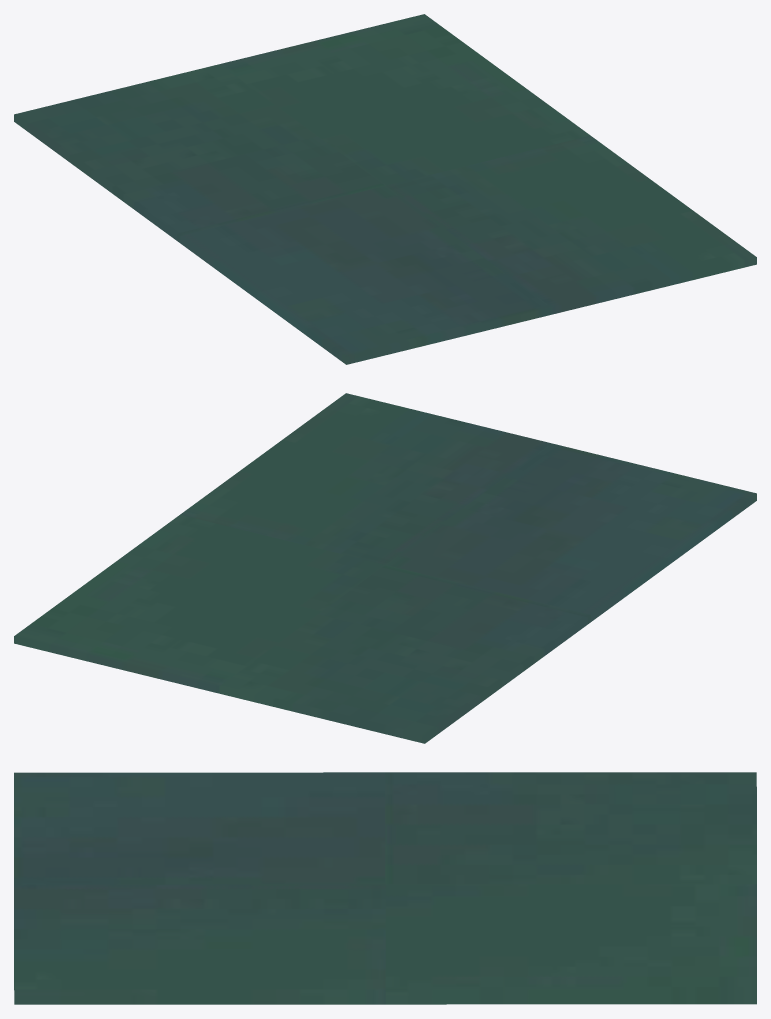
The picture shows the model from 3 angles, top to bottom: view 1: azimuth 30°, elevation 25°; view 2: azimuth 150°, elevation 25°; view 3: azimuth 270°, elevation 25°; orthographic projection. The views are drawn at different scales.
Visible parts, largest first — view 1: 30436272704370635711_0; view 2: 30436272704370635711_0; view 3: 30436272704370635711_0.
Part boxes in pixels (x1,y1,x2,y2): 30436272704370635711_0: (14, 14, 756, 364); 30436272704370635711_0: (14, 393, 756, 743); 30436272704370635711_0: (14, 772, 756, 1004).
Bounding box in the file's own units: 27.32 × 0.4798 × 38.26.
Materials: 1 (1 with a texture image).
